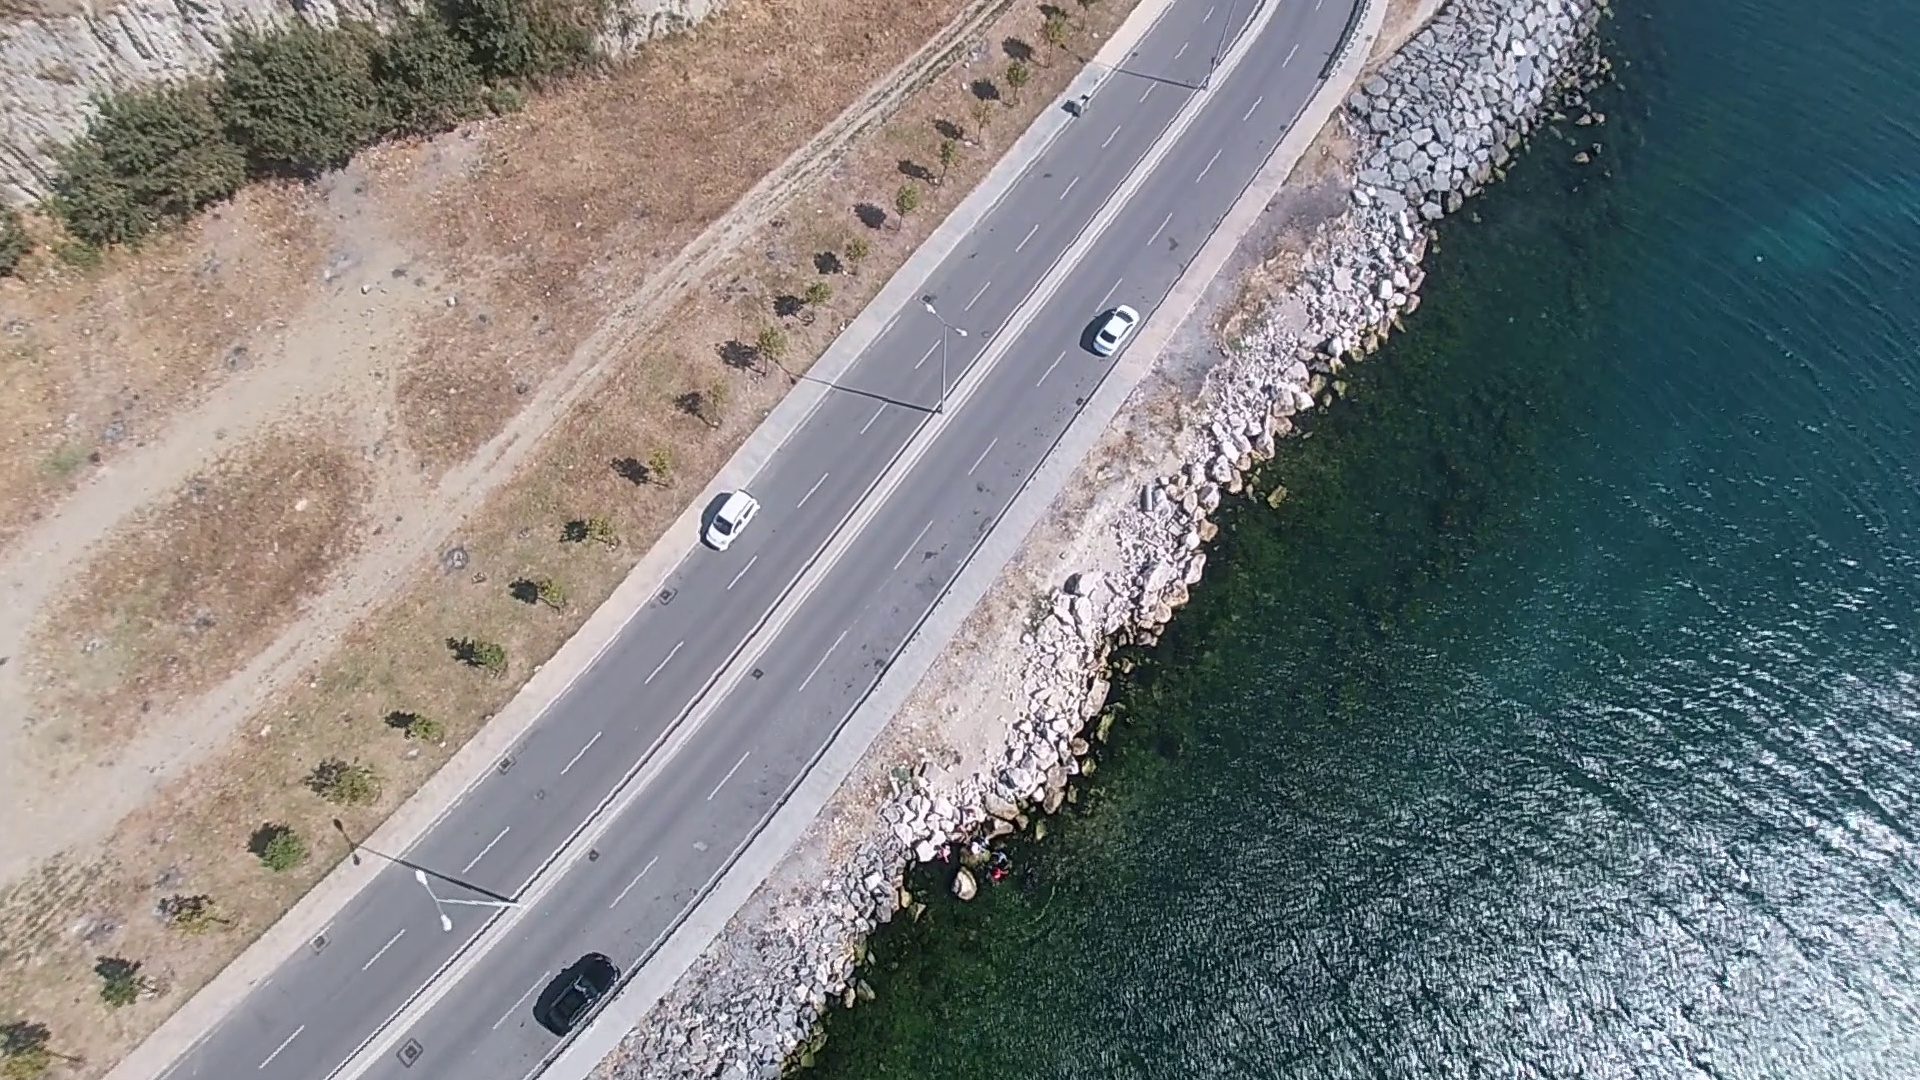araba: (537, 953, 618, 1030), (702, 485, 760, 553), (1091, 303, 1139, 356)
